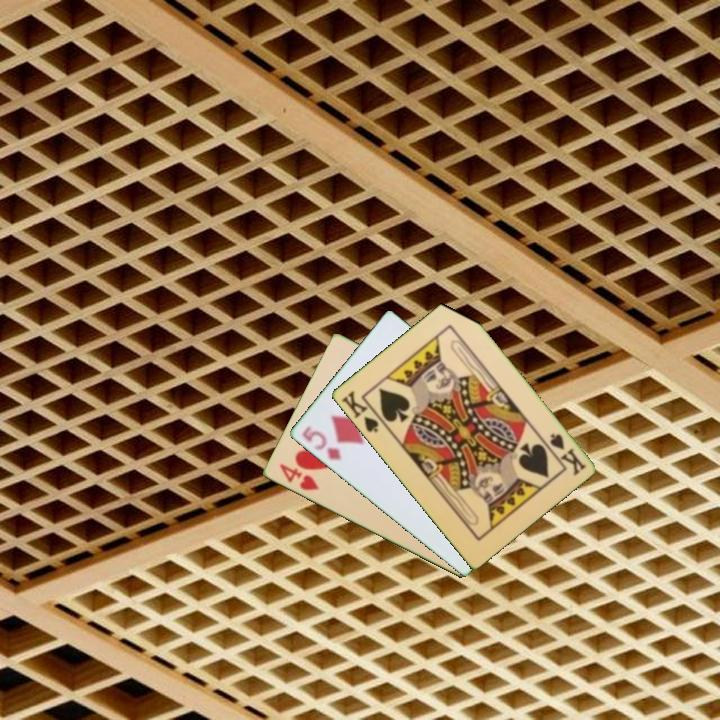4h: (276, 460, 322, 494)
5d: (298, 422, 344, 463)
Ks: (337, 387, 387, 436), (546, 430, 589, 478)
